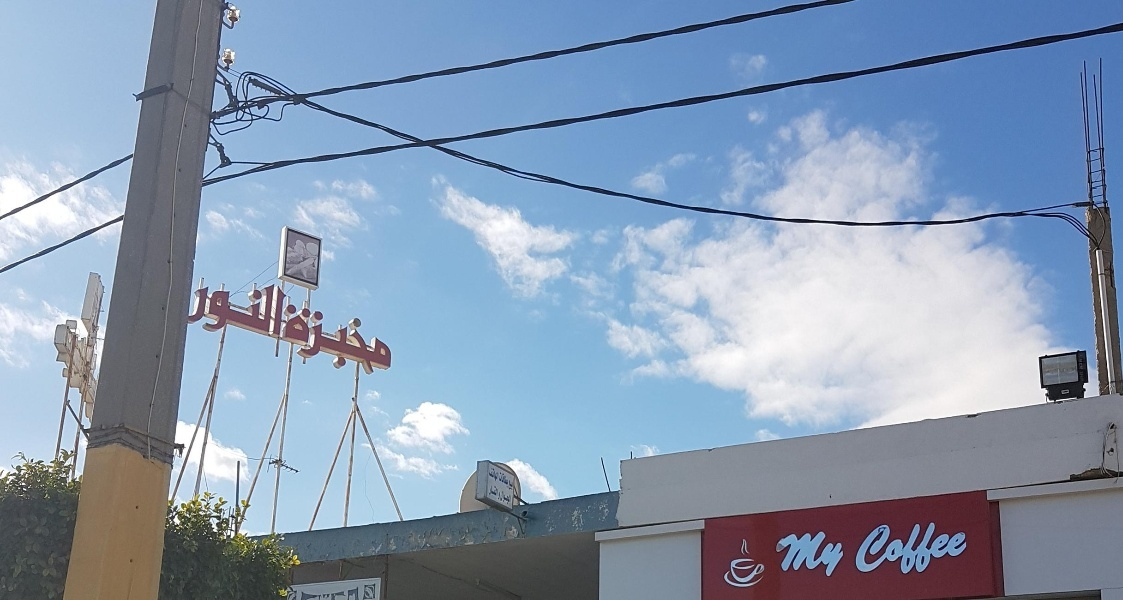text: (289, 301, 304, 380), (305, 301, 320, 380), (321, 301, 336, 380), (337, 301, 352, 380), (353, 301, 368, 380), (369, 301, 384, 380), (209, 283, 224, 343), (225, 283, 240, 343), (241, 283, 256, 343), (257, 283, 272, 343), (865, 519, 880, 576), (881, 519, 896, 576), (897, 519, 912, 576), (913, 519, 928, 576), (929, 519, 944, 576), (945, 519, 960, 576), (273, 283, 286, 343), (785, 532, 800, 579), (801, 532, 816, 579), (817, 532, 832, 579), (961, 519, 973, 576), (197, 283, 208, 343), (385, 301, 392, 380), (833, 532, 843, 579), (856, 519, 864, 576), (775, 532, 784, 579), (500, 471, 512, 489), (502, 491, 512, 507), (499, 492, 512, 501), (490, 467, 496, 483), (490, 484, 496, 499), (497, 484, 500, 499), (508, 481, 512, 491), (497, 467, 499, 483)
